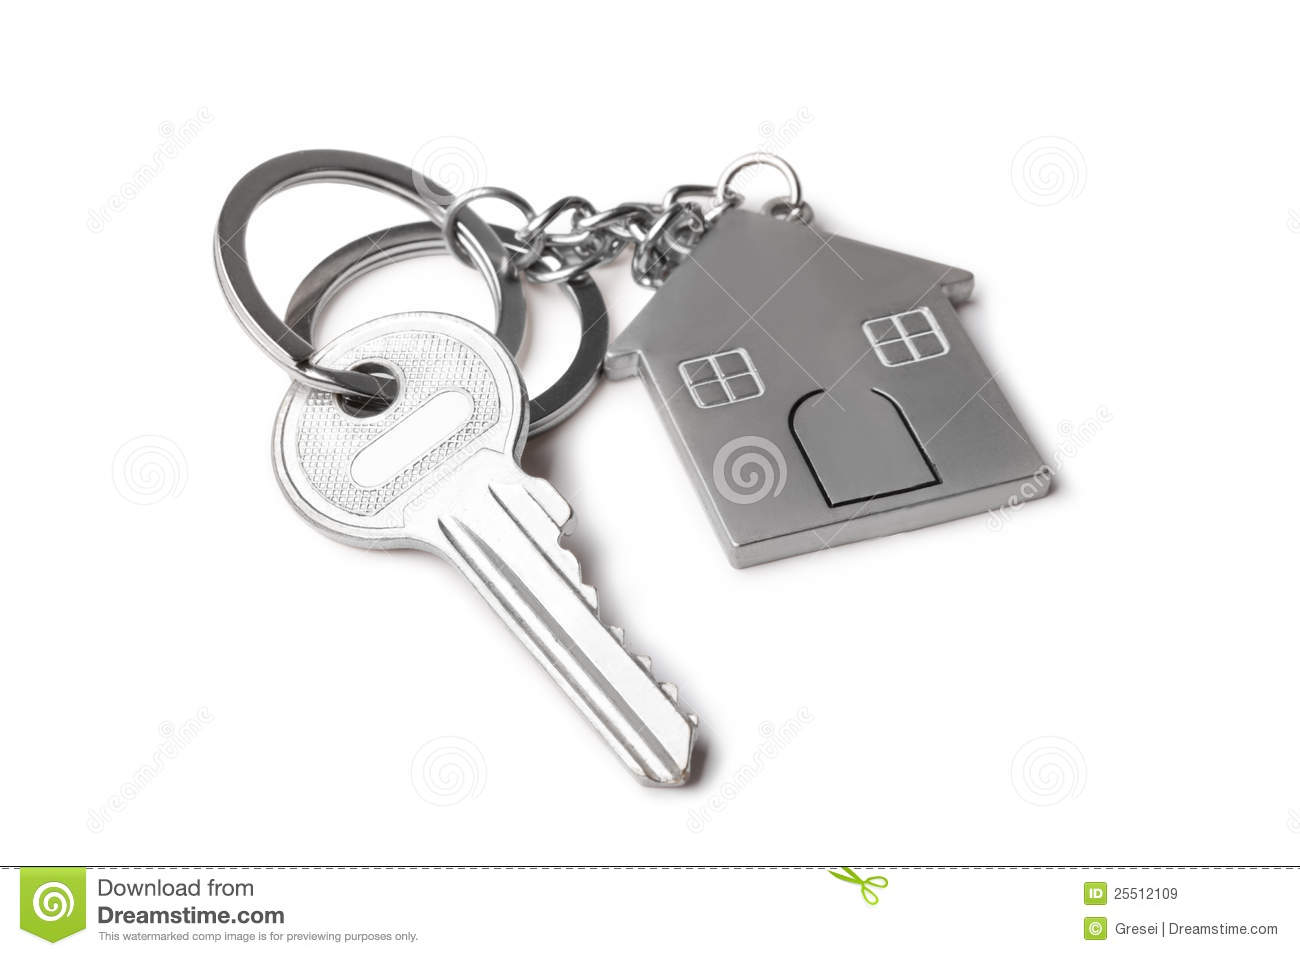key: (269, 306, 725, 792)
